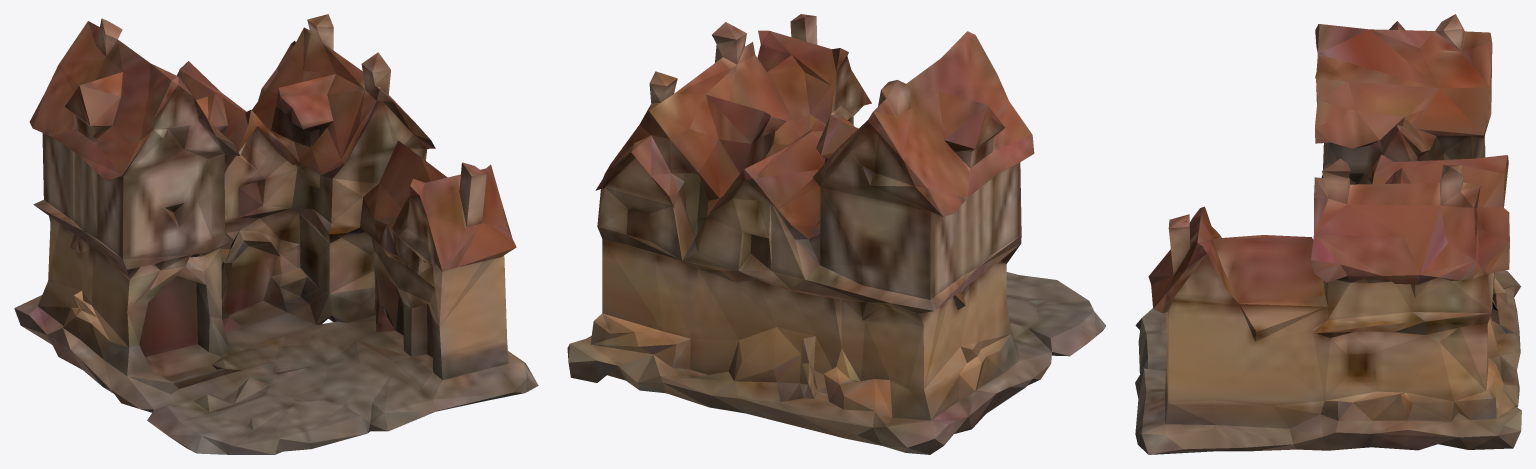
The model's file is village_cluster_cobble_lod1.glb.
The picture shows the model from 3 angles, left to right: view 1: azimuth 30°, elevation 25°; view 2: azimuth 150°, elevation 25°; view 3: azimuth 270°, elevation 25°; orthographic projection. The views are drawn at different scales.
Visible parts, largest first — view 1: village_cluster_cobble_lod1; view 2: village_cluster_cobble_lod1; view 3: village_cluster_cobble_lod1.
Boxes of the visible parts, x1,y1,x2,y2 form: village_cluster_cobble_lod1: (14,14,538,454); village_cluster_cobble_lod1: (567,14,1105,454); village_cluster_cobble_lod1: (1135,14,1521,454).
Bounding box in the file's own units: 16.09 × 14.74 × 16.13.
1 material, 1 textured.
